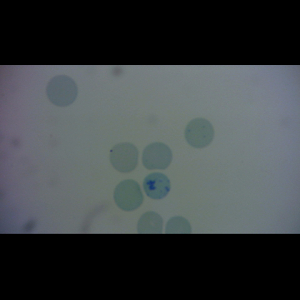aggregate reticulocyte: (143, 172, 172, 200)
erythrocyte: (44, 74, 79, 108), (112, 178, 145, 212), (140, 141, 174, 171)
punctate reticulocyte: (108, 141, 140, 174), (184, 117, 214, 149)
